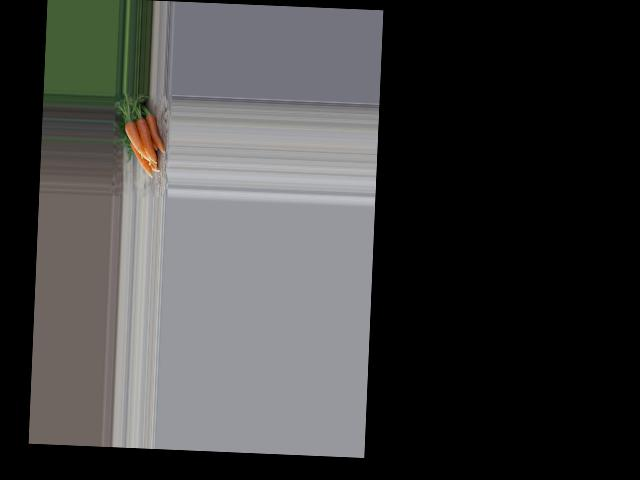carrot: (143, 113, 167, 157)
